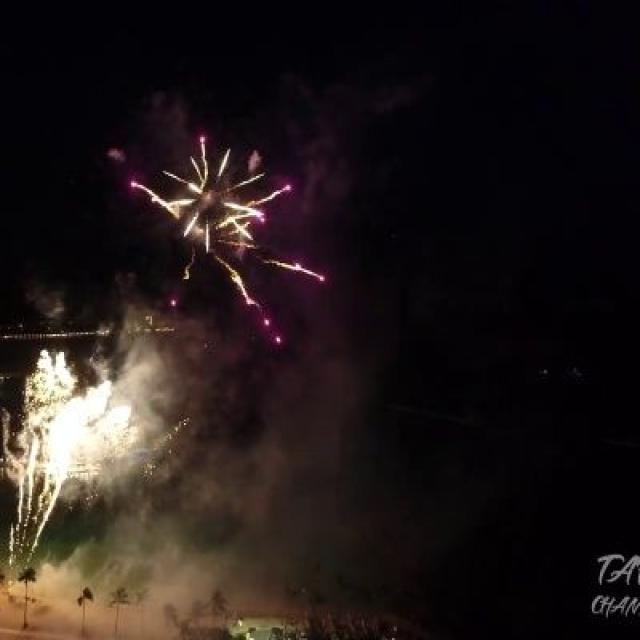Smoke: (122, 372, 430, 606), (77, 325, 188, 461), (309, 134, 348, 208)
